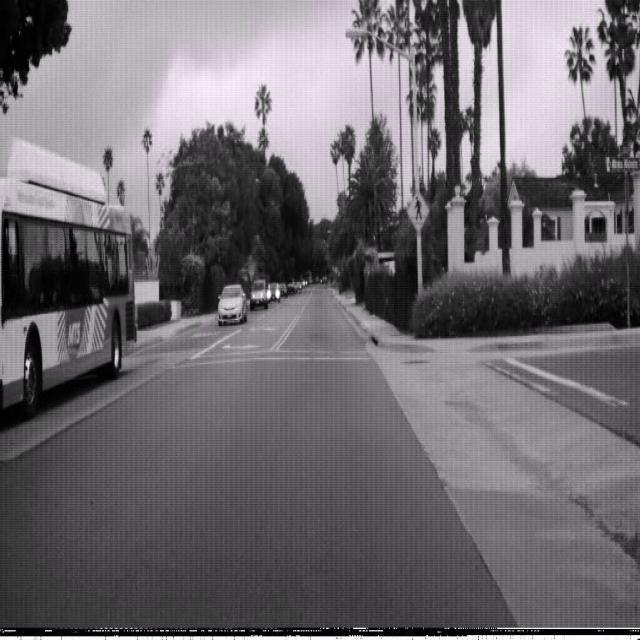pedestrianCrossing: (406, 188, 430, 234)
